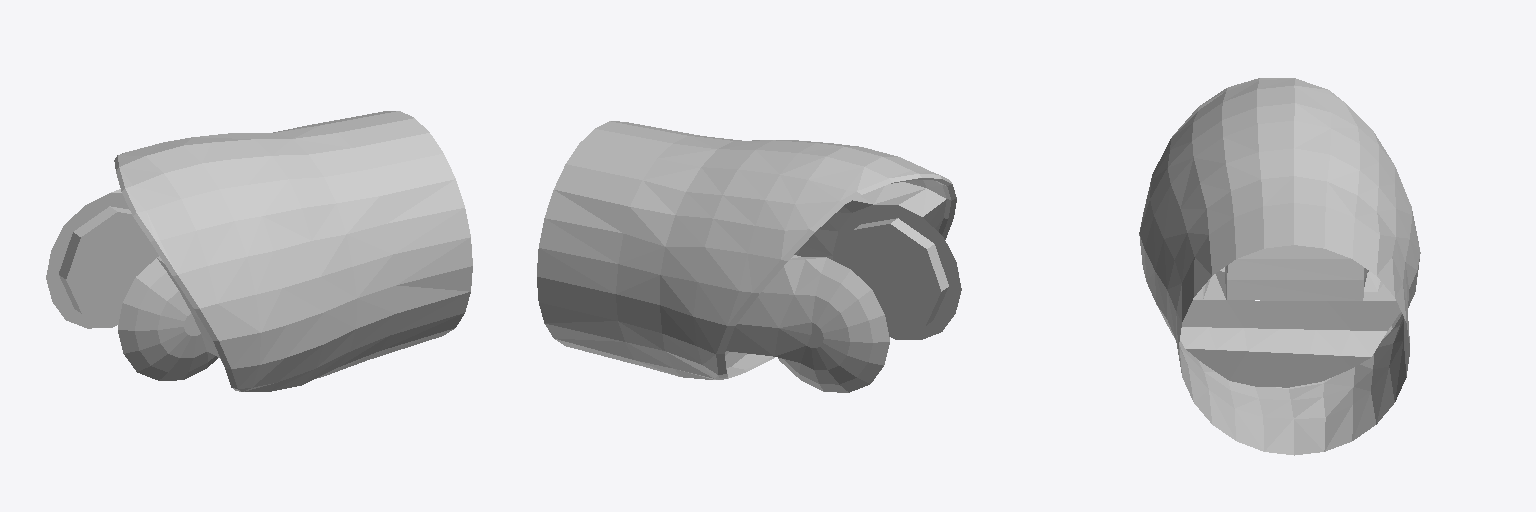
The model's file is LElbowRoll.obj.
3 renders of one model, left to right at view 1: azimuth 30°, elevation 25°; view 2: azimuth 150°, elevation 25°; view 3: azimuth 270°, elevation 25°, orthographic.
Parts seen in each view (by area): view 1: root; view 2: root; view 3: root.
Boxes of the visible parts, <box> form: root: <box>46,111,472,391</box>; root: <box>537,121,961,392</box>; root: <box>1139,78,1420,455</box>.
Bounding box in the file's own units: 70.06 × 48.73 × 51.39.